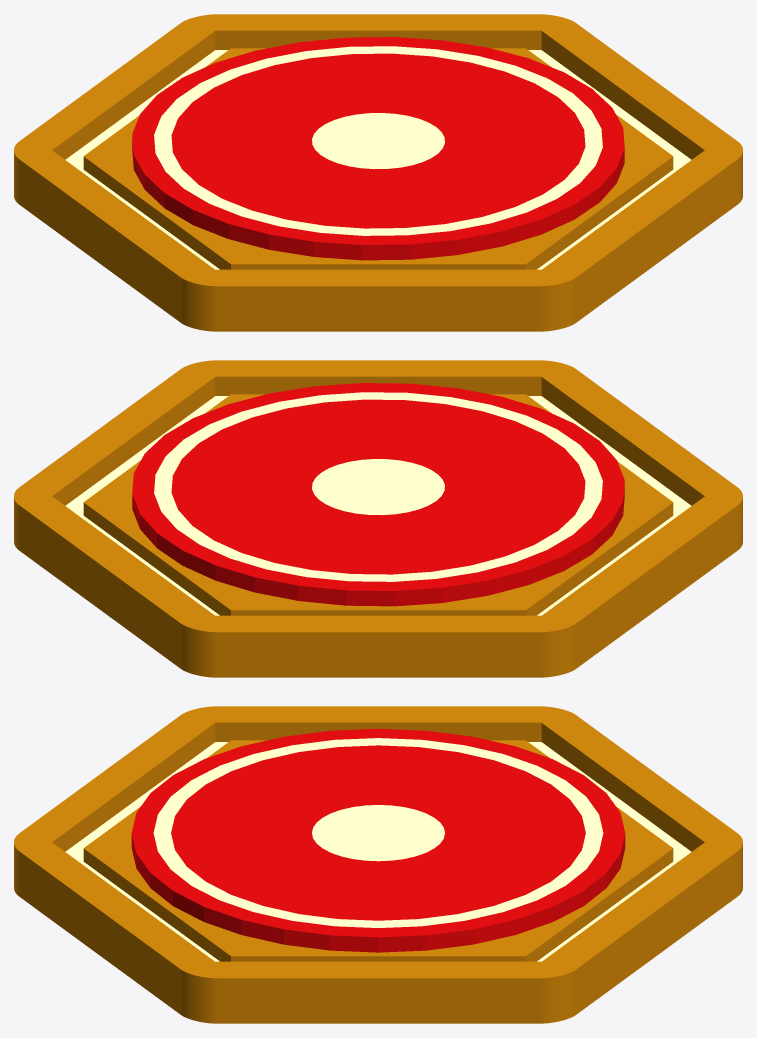
Rendered from JumpPad.fbx.
The picture shows the model from 3 angles, top to bottom: view 1: azimuth 30°, elevation 25°; view 2: azimuth 150°, elevation 25°; view 3: azimuth 270°, elevation 25°; orthographic projection.
Visible parts, largest first — view 1: Цилиндр, Цилиндр.001; view 2: Цилиндр, Цилиндр.001; view 3: Цилиндр, Цилиндр.001.
Part boxes in pixels (<box>): Цилиндр: <box>14,14,742,331</box>; Цилиндр.001: <box>132,37,624,260</box>; Цилиндр: <box>14,360,742,677</box>; Цилиндр.001: <box>132,383,624,606</box>; Цилиндр: <box>14,706,742,1023</box>; Цилиндр.001: <box>131,728,625,952</box>.
Bounding box in the file's own units: 448 × 41.93 × 507.
